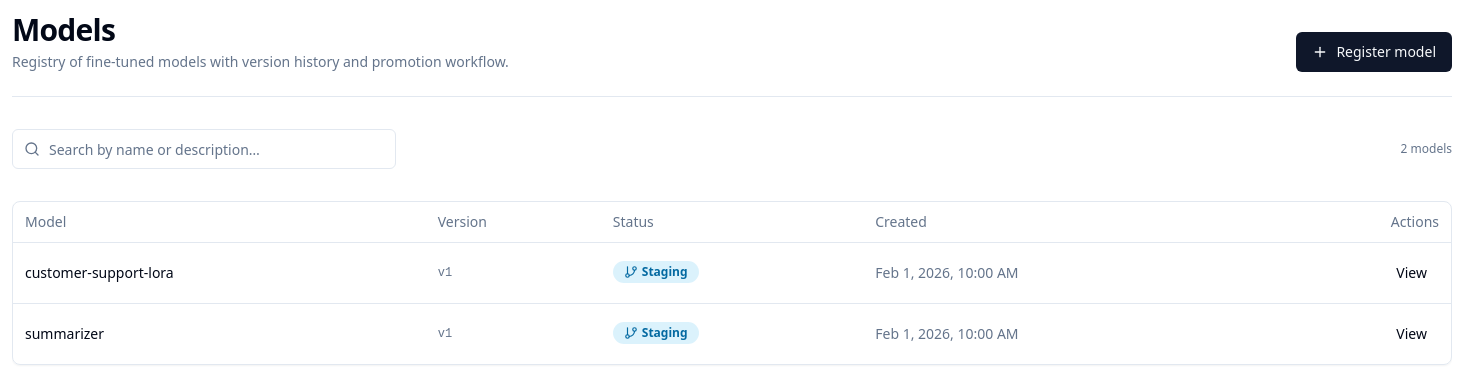
it: ModelsPage › filters rows client-side by search query
Expected: the link "customer-support-lora" is shown, [25,262,174,282]
In the field named "search models": (204, 149) [12,129,396,169], type "summarizer"
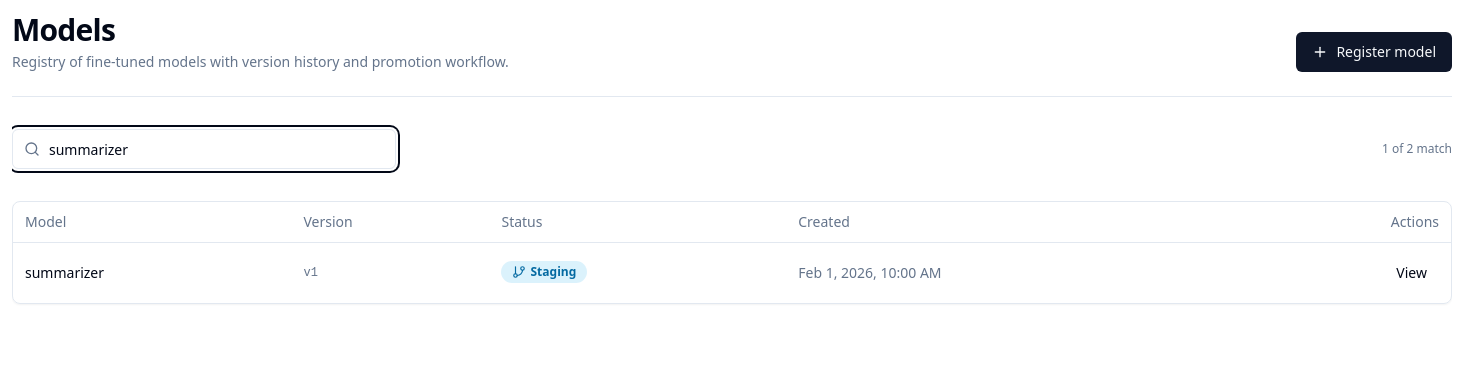
Expected: the link "summarizer" is shown, [25,262,104,282]
Result: the link "customer-support-lora" is gone
